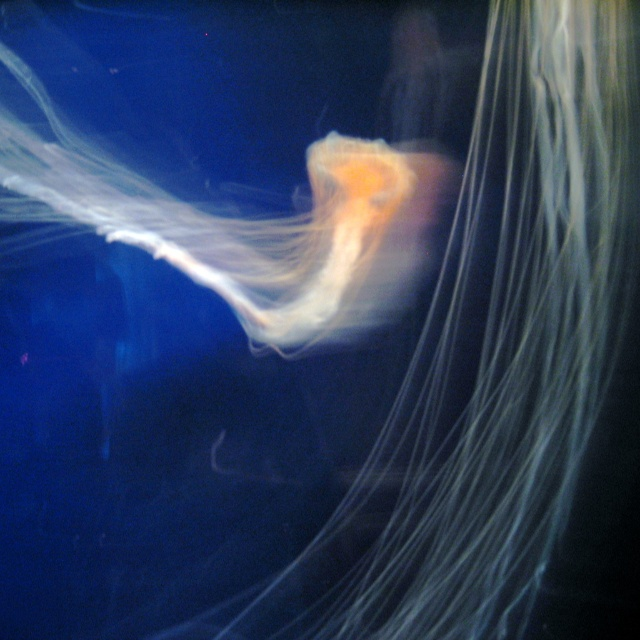Jellyfish: (49, 119, 416, 386)
